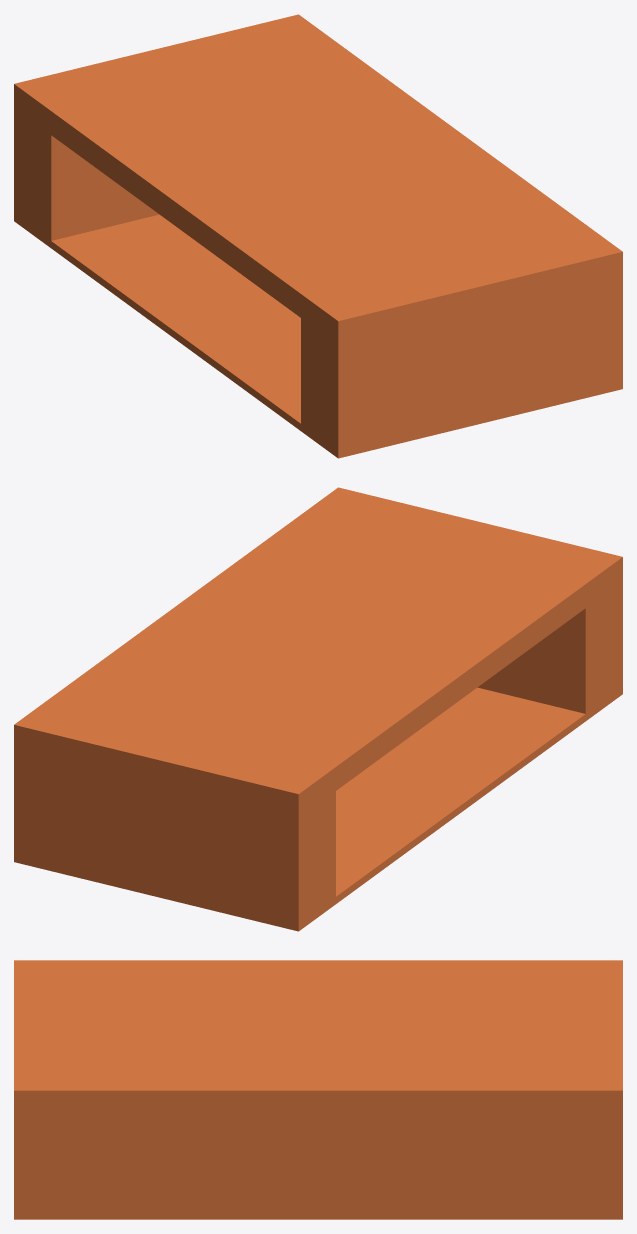
File: table.fbx
3 views of the same model, one above another, from view 1: azimuth 30°, elevation 25°; view 2: azimuth 150°, elevation 25°; view 3: azimuth 270°, elevation 25° (orthographic). The views are drawn at different scales.
Visible parts, largest first — view 1: CoffeTable; view 2: CoffeTable; view 3: CoffeTable.
Boxes of the visible parts, bbox=[...] form: CoffeTable: bbox=[14, 14, 622, 458]; CoffeTable: bbox=[14, 487, 622, 931]; CoffeTable: bbox=[14, 960, 622, 1219].
Size of the model in its own units: 2 by 0.9218 by 3.95.
